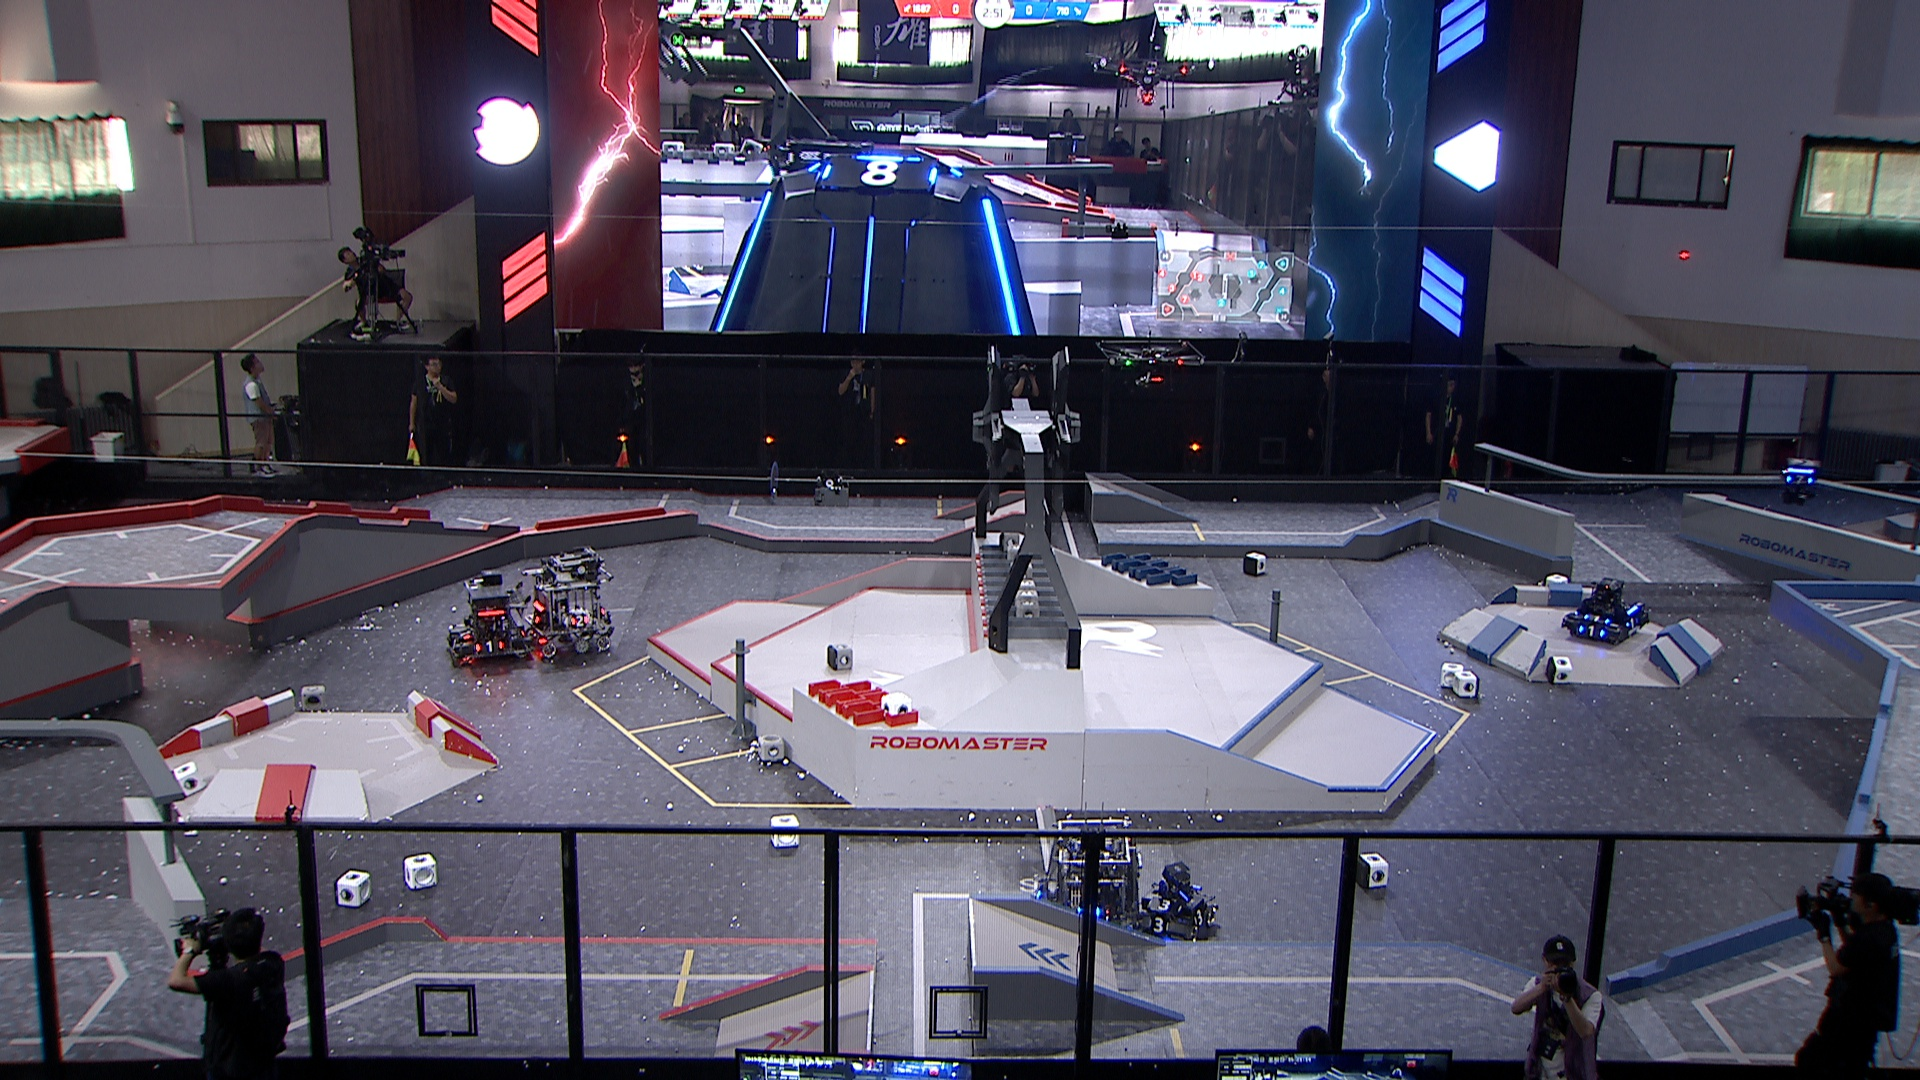armor: (1147, 898, 1185, 916), (475, 638, 505, 654), (1582, 612, 1613, 626), (1149, 916, 1172, 935), (568, 613, 589, 632), (1192, 906, 1209, 928), (1576, 626, 1607, 638), (1787, 473, 1813, 487), (1626, 616, 1642, 632), (456, 626, 473, 641), (448, 636, 463, 651)
car: (1034, 818, 1145, 942), (522, 543, 615, 659), (446, 571, 531, 665), (1134, 860, 1220, 940), (1560, 578, 1647, 646)
ignore: (708, 152, 1038, 335)
watcher: (1779, 458, 1825, 509)
